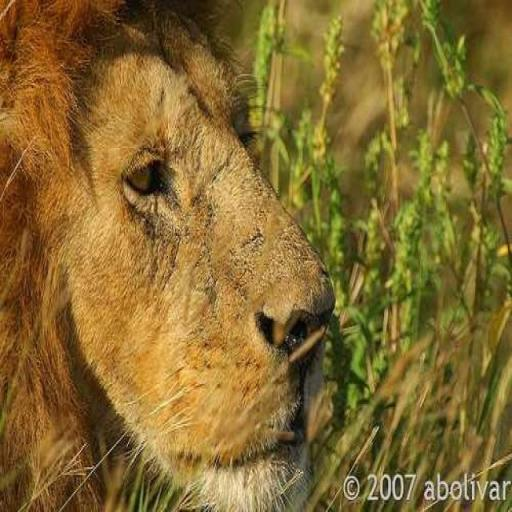Lion: (0, 0, 337, 511)
